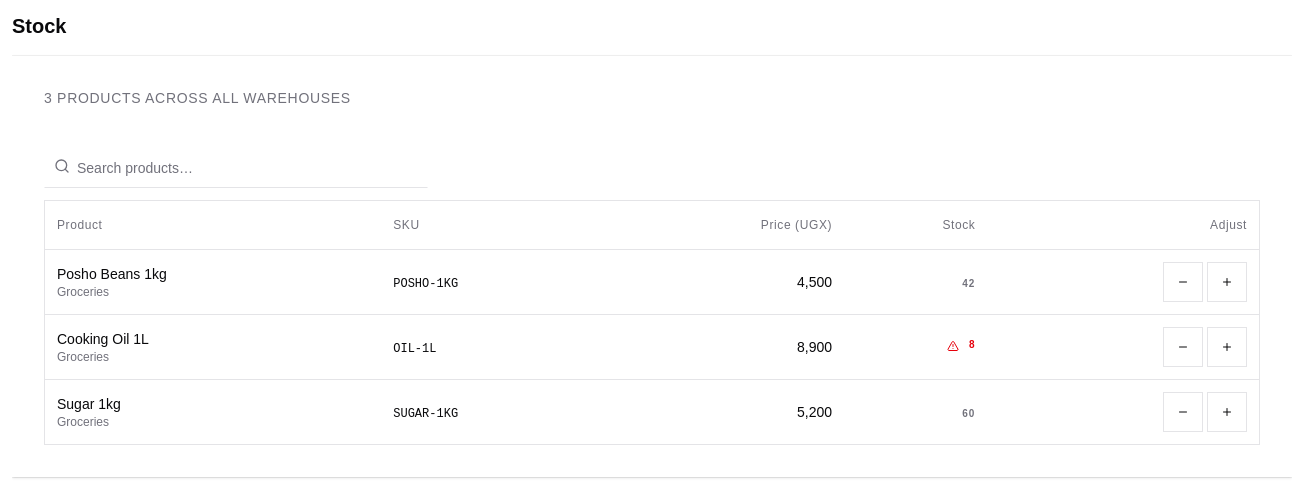
it: ProductsPage › optimistically adjusts stock and posts to the API
Expected: the text "Posho Beans 1kg" is shown, [57, 266, 167, 282]
Click the button named "increase posho beans".
click(1227, 282)  # box [1207, 262, 1247, 302]
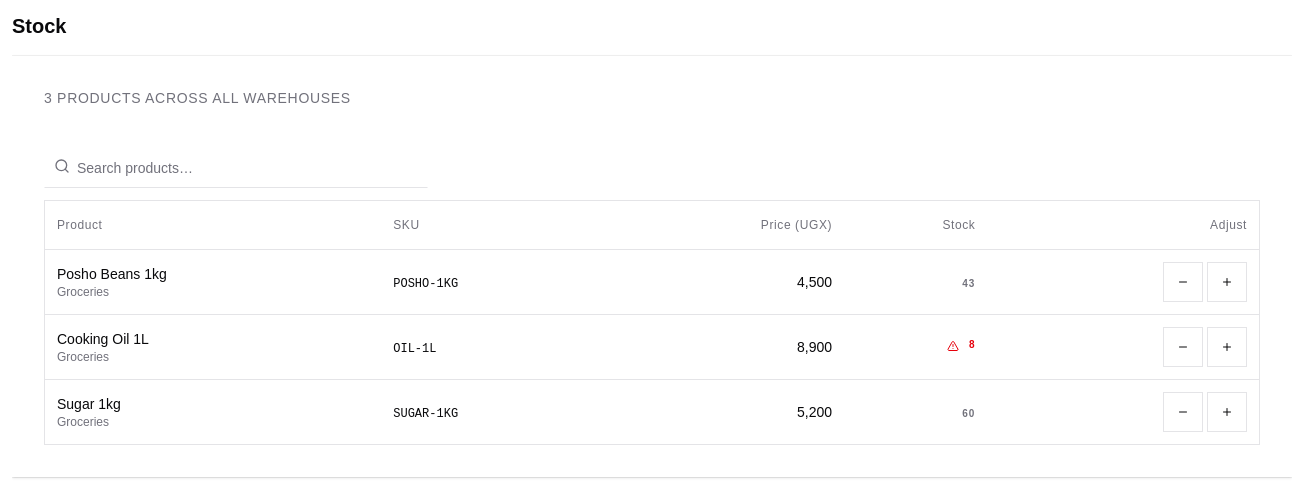
Now the icon "43" is shown, box [962, 276, 975, 291]
